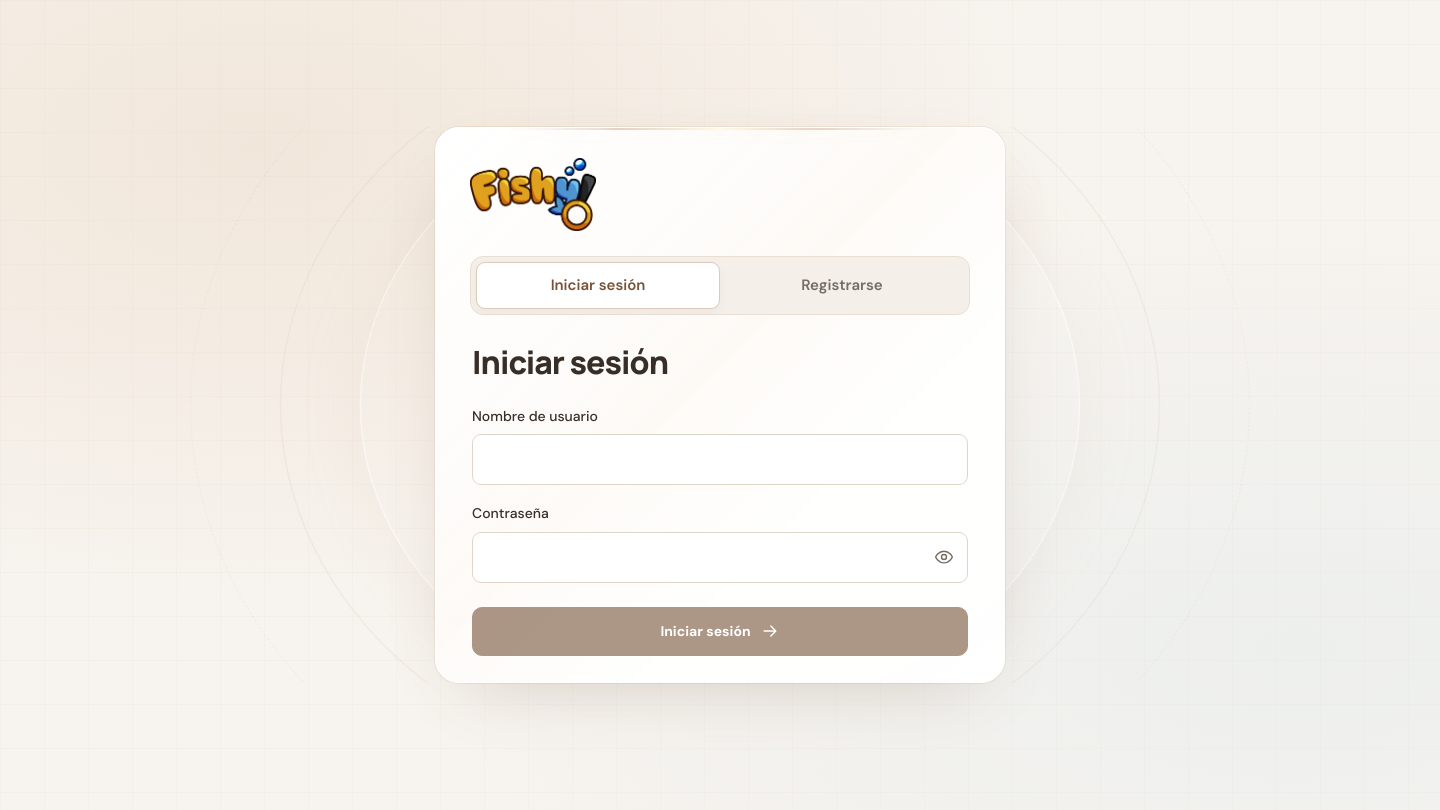
Test: criterios de aceptación en las pantallas › un fallo de login real no crea una sesión ni activa datos ficticios
The width and height of the screenshot is (1440, 810).
Type "cuenta-invalida" into the field labelled "Nombre de usuario" at (720, 460), box [472,434,968,485]
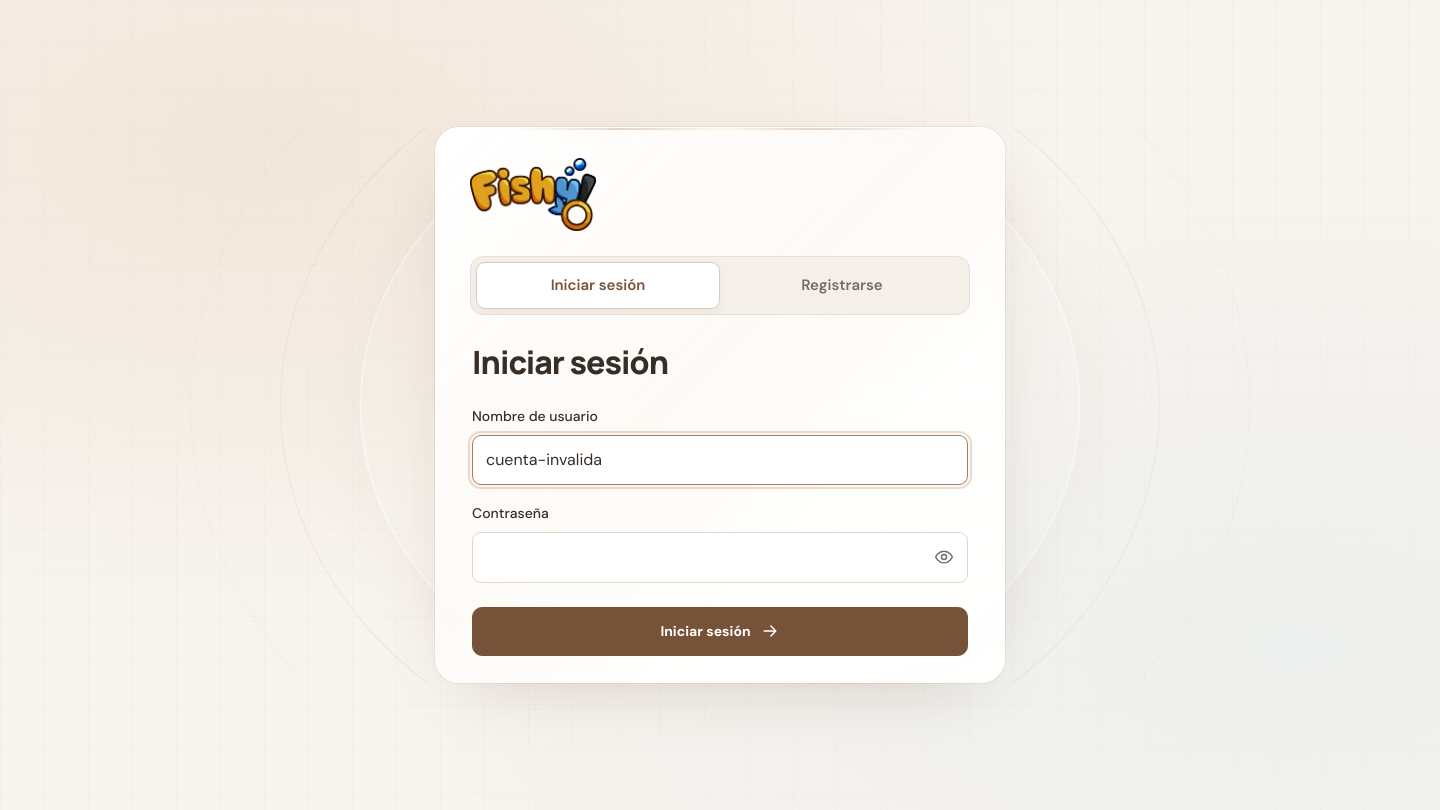
Type "incorrecta" into the password field labelled "Contraseña" at (720, 557), box [472,532,968,583]
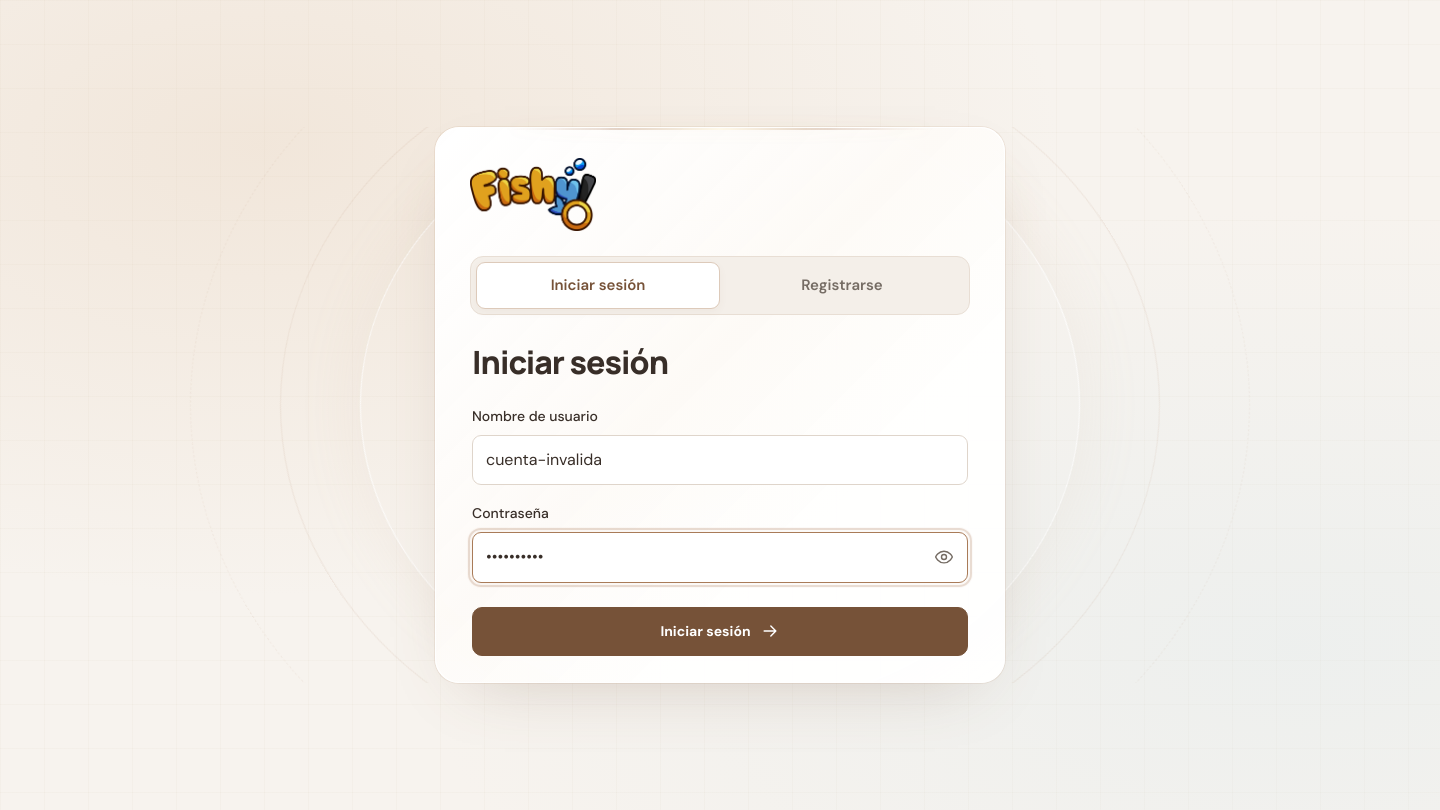
Click the button "Iniciar sesión" at (720, 631), box [472,607,968,656]
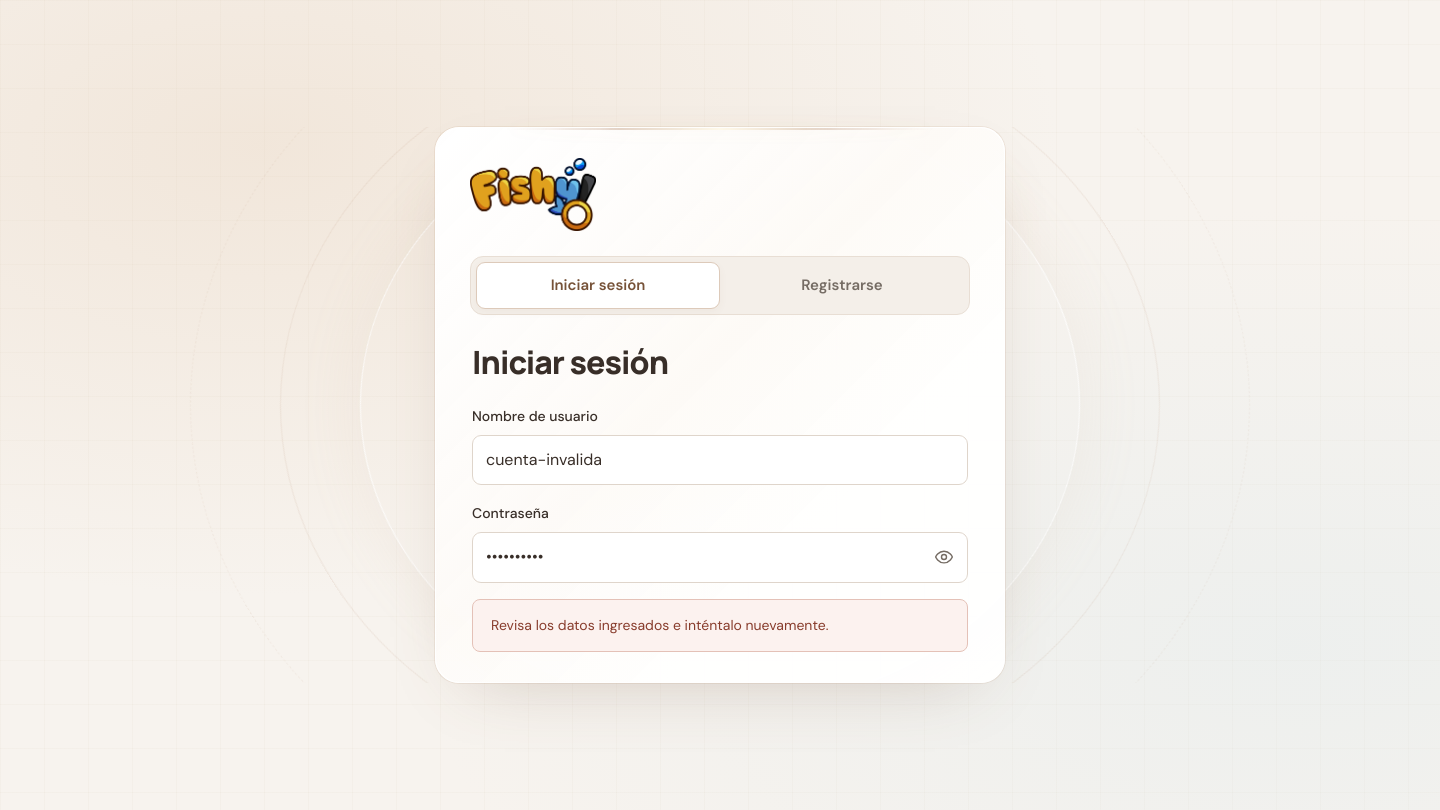
Expected: the message "Revisa los datos ingresados e inténtalo nuevamente." is shown, [472,599,968,652]
